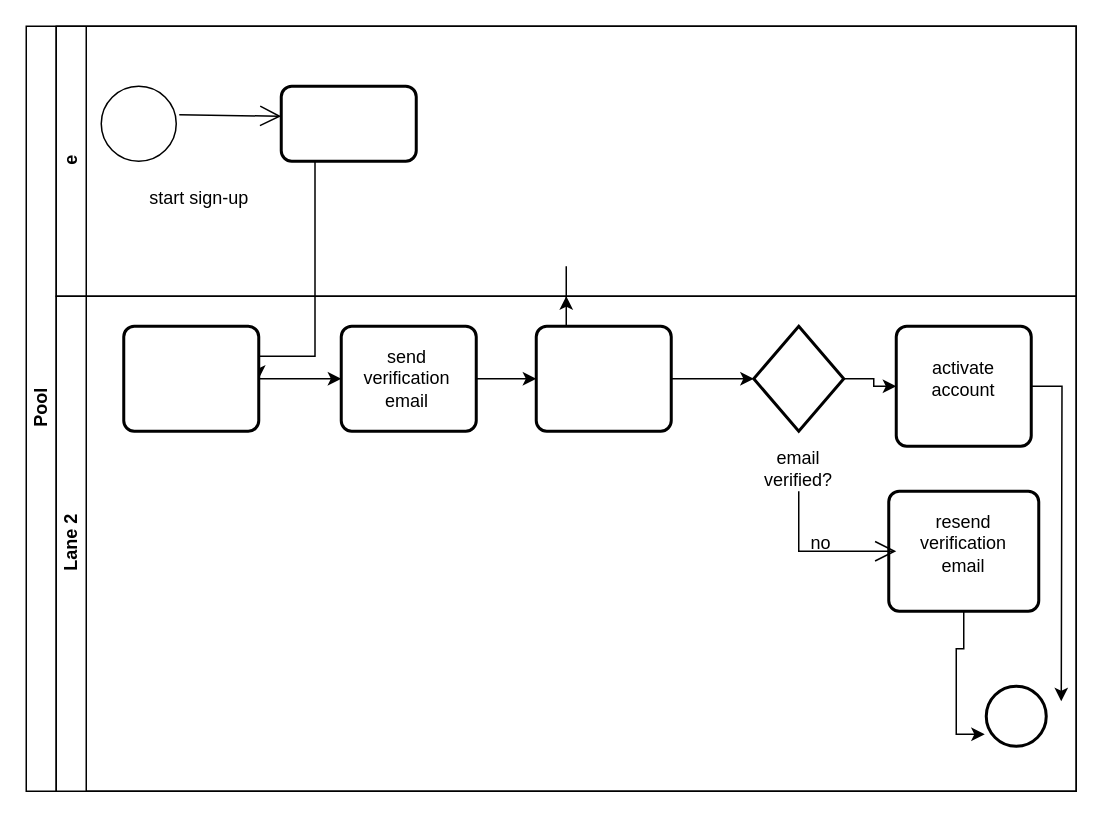
Some shapes in this 1103 by 818 pixel diagram are drawn without their labels. The centre of each missing label's shape, as x and y in pixels:
click verification link: [603,378]
create user account: [191,378]
enter sign up information: [348,123]
